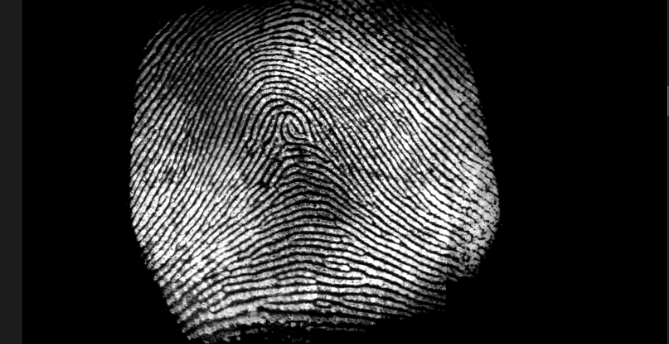nucleo: (274, 107, 314, 138)
